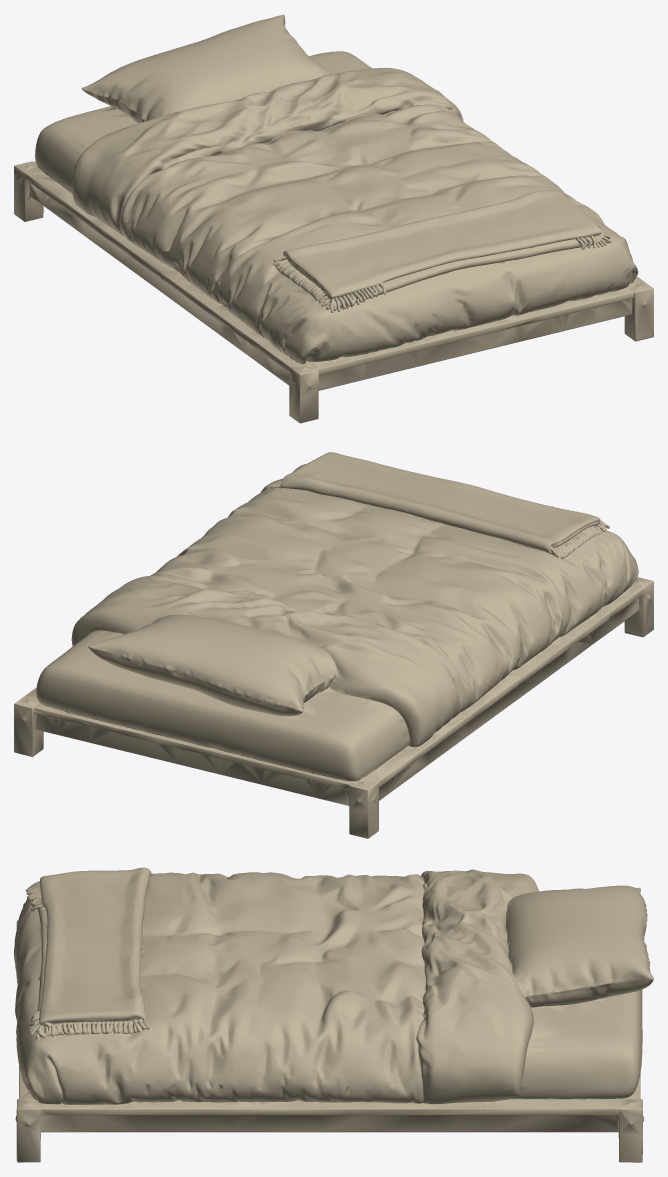
The model's file is gen-bed-low-duvet-1.glb.
3 renders of one model, top to bottom at view 1: azimuth 30°, elevation 25°; view 2: azimuth 150°, elevation 25°; view 3: azimuth 270°, elevation 25°, orthographic. The views are drawn at different scales.
Visible parts, largest first — view 1: gen-bed-low-duvet-1_part1; view 2: gen-bed-low-duvet-1_part1; view 3: gen-bed-low-duvet-1_part1.
Part boxes in pixels (<box>): gen-bed-low-duvet-1_part1: <box>14,14,653,423</box>; gen-bed-low-duvet-1_part1: <box>14,452,653,838</box>; gen-bed-low-duvet-1_part1: <box>14,867,653,1162</box>.
Size of the model in its own units: 1408 by 530 by 1999.
